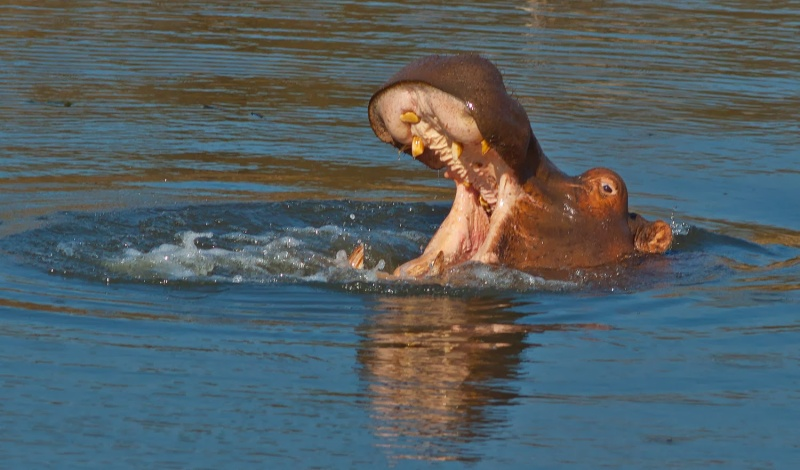hipopotamo: (336, 46, 683, 294)
